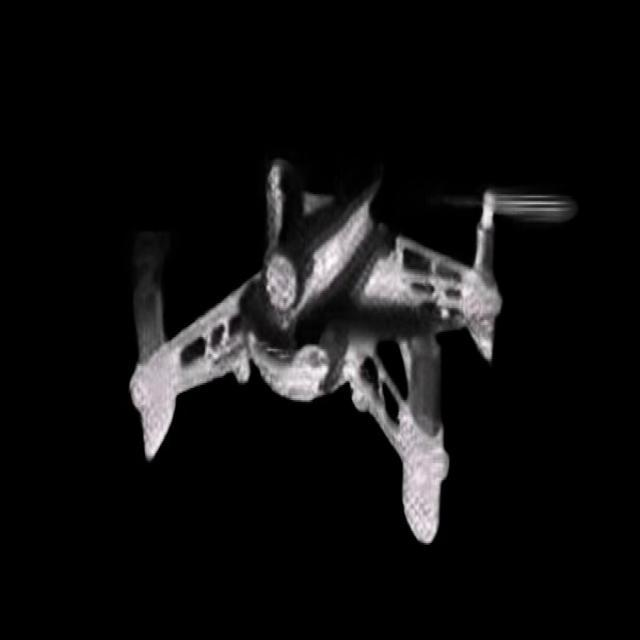drone: (116, 103, 582, 547)
